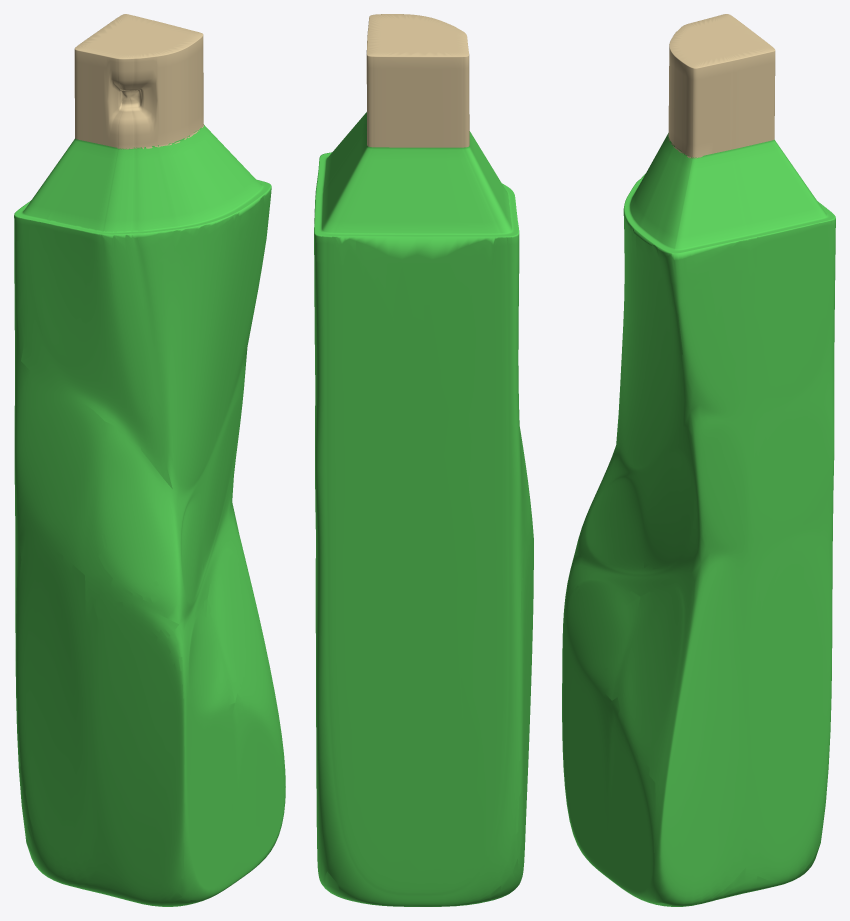
Rendered from frasco-moderno.glb.
3 views of the same model, side by side, from view 1: azimuth 30°, elevation 25°; view 2: azimuth 150°, elevation 25°; view 3: azimuth 270°, elevation 25° (orthographic). The views are drawn at different scales.
Visible parts, largest first — view 1: Object_6, Object_8; view 2: Object_6, Object_8; view 3: Object_6, Object_8.
Boxes of the visible parts, x1,y1,x2,y2 form: Object_6: (14,125,285,906); Object_8: (74,14,203,149); Object_6: (314,112,533,906); Object_8: (366,14,469,147); Object_6: (562,133,835,906); Object_8: (668,14,775,158).
Bounding box in the file's own units: 0.0446 × 0.15 × 0.0455.
